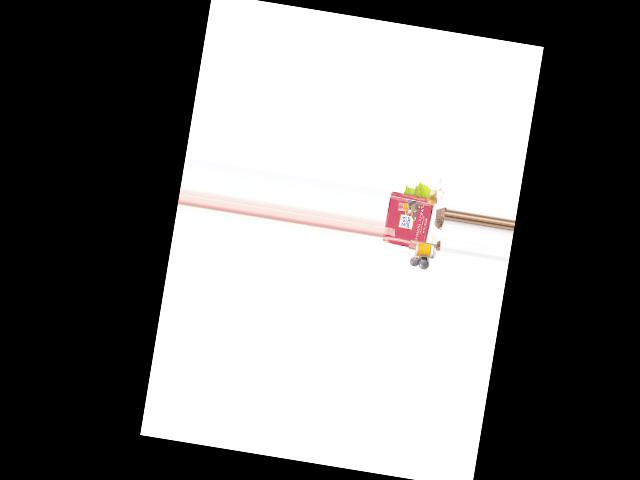chocolate: (383, 190, 434, 248)
